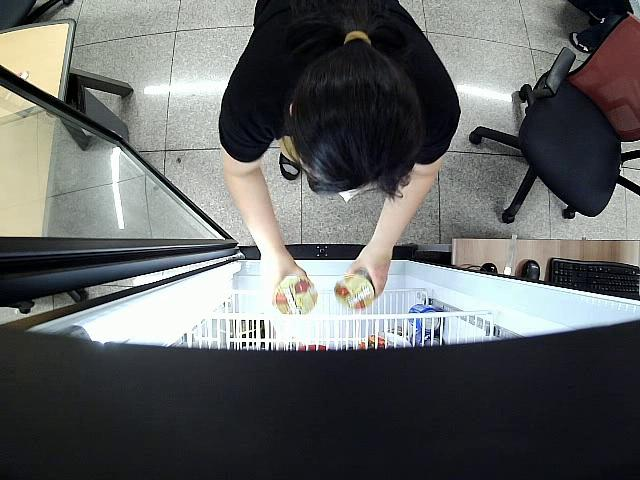00_hand: (259, 252, 307, 300), (345, 251, 391, 295)
04_chapagetti_S: (274, 273, 319, 319), (333, 272, 376, 313)
